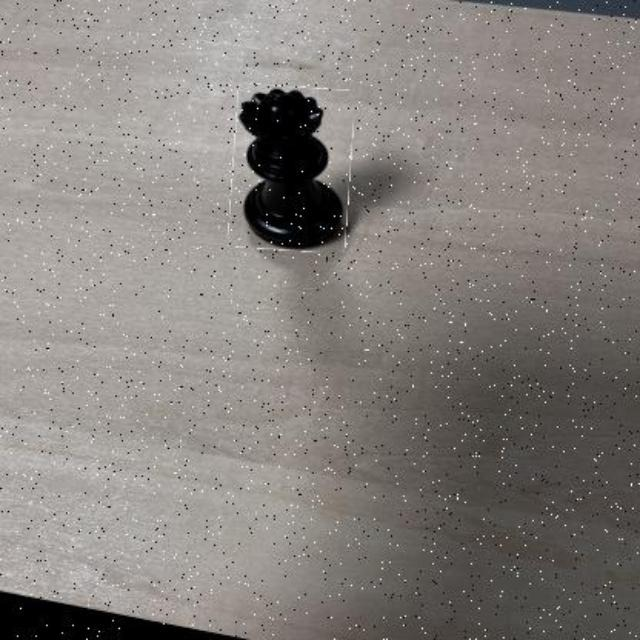black-queen: (230, 85, 353, 252)
